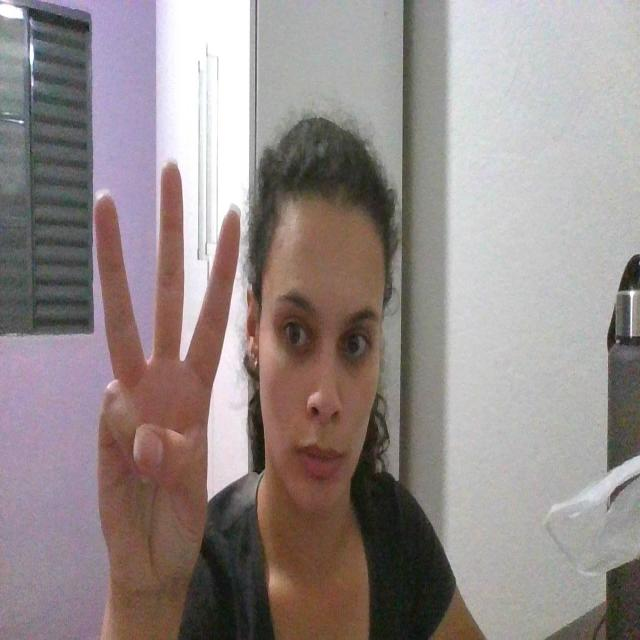W: (81, 158, 241, 596)
